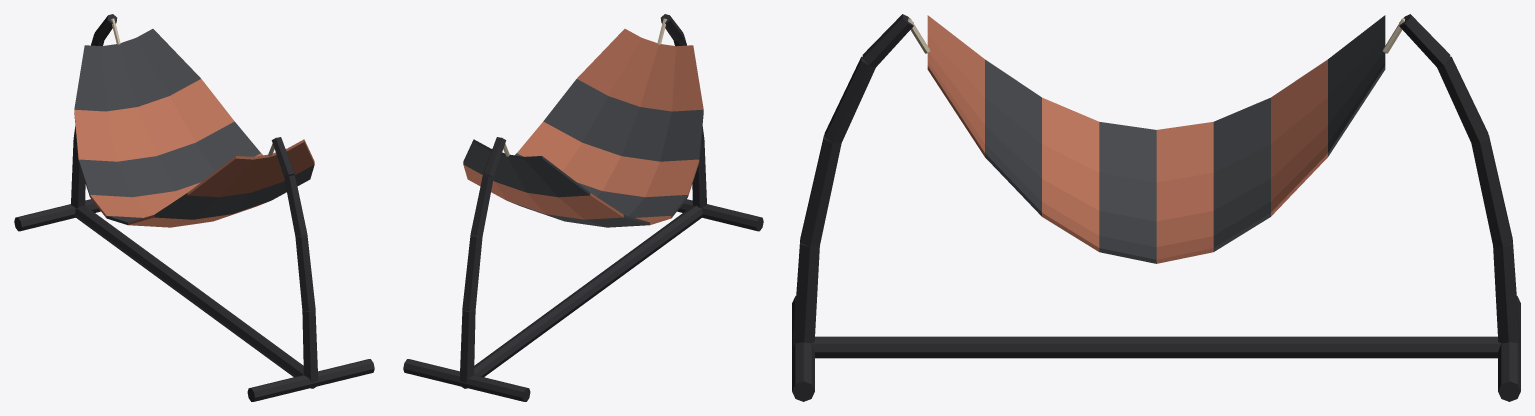
Rendered from FN_Hammock_Stand.obj.
3 renders of one model, left to right at view 1: azimuth 30°, elevation 25°; view 2: azimuth 150°, elevation 25°; view 3: azimuth 270°, elevation 25°, orthographic. The views are drawn at different scales.
Visible parts, largest first — view 1: FN_Hammock_Stand; view 2: FN_Hammock_Stand; view 3: FN_Hammock_Stand.
Part boxes in pixels (x1,y1,x2,y2): FN_Hammock_Stand: (14, 14, 374, 401); FN_Hammock_Stand: (403, 14, 763, 401); FN_Hammock_Stand: (792, 14, 1520, 401).
Size of the model in its own units: 0.94 by 1.15 by 2.23.
Materials: 1 (1 with a texture image).
